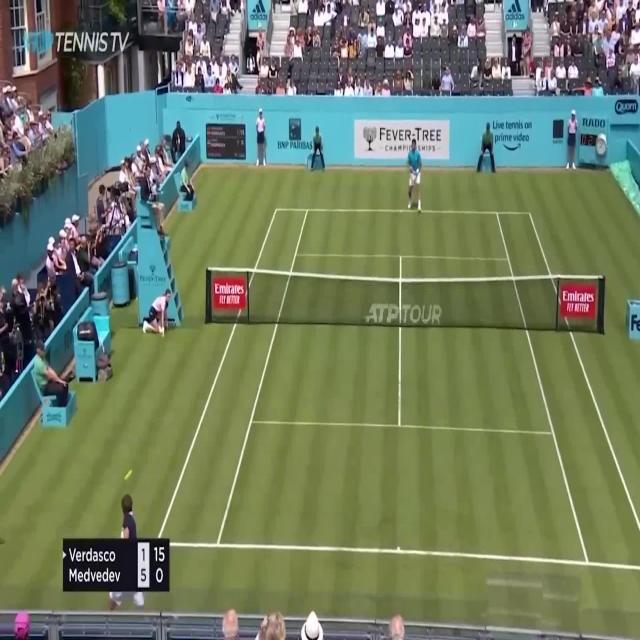bottom-dead-zone: (217, 422, 589, 564)
court: (154, 207, 640, 568)
left-doubles-alley: (157, 208, 308, 546)
left-service-box: (251, 254, 401, 426)
net: (204, 268, 605, 337)
right-doubles-alley: (497, 213, 640, 569)
right-service-box: (399, 257, 551, 431)
top-dead-zone: (296, 211, 508, 258)
